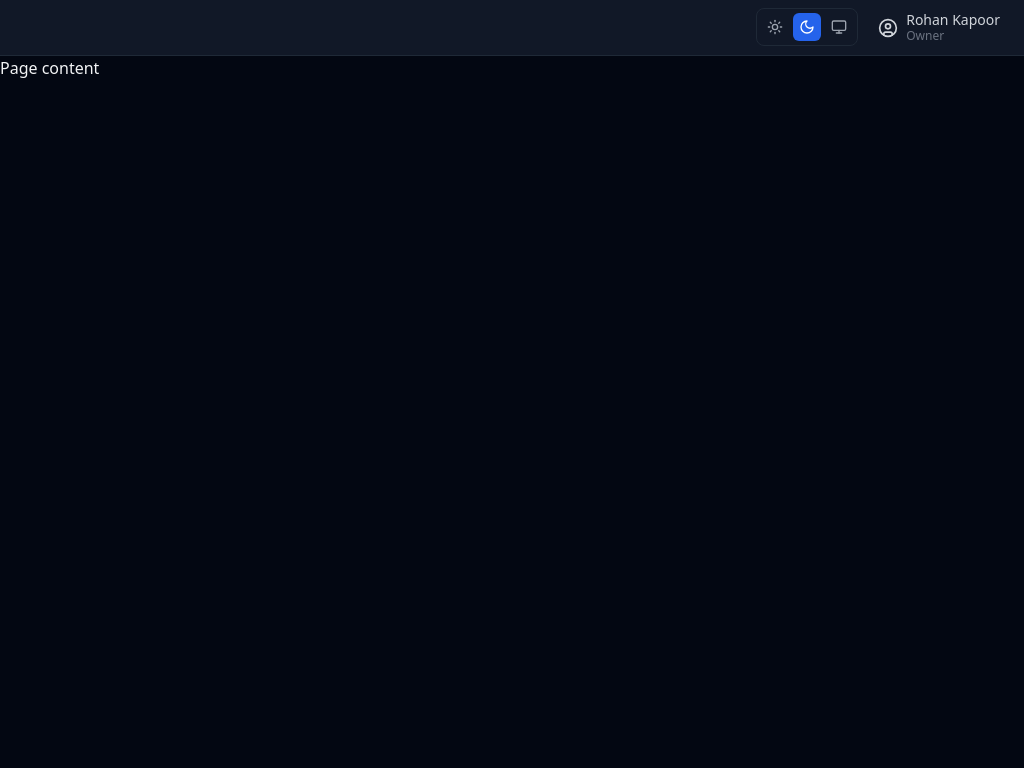
Header account menu › opens the change-password dialog from the account menu, and closes the menu
Step 1. Click the button with aria-label "Account menu" → click(939, 28), box [870, 5, 1008, 50]
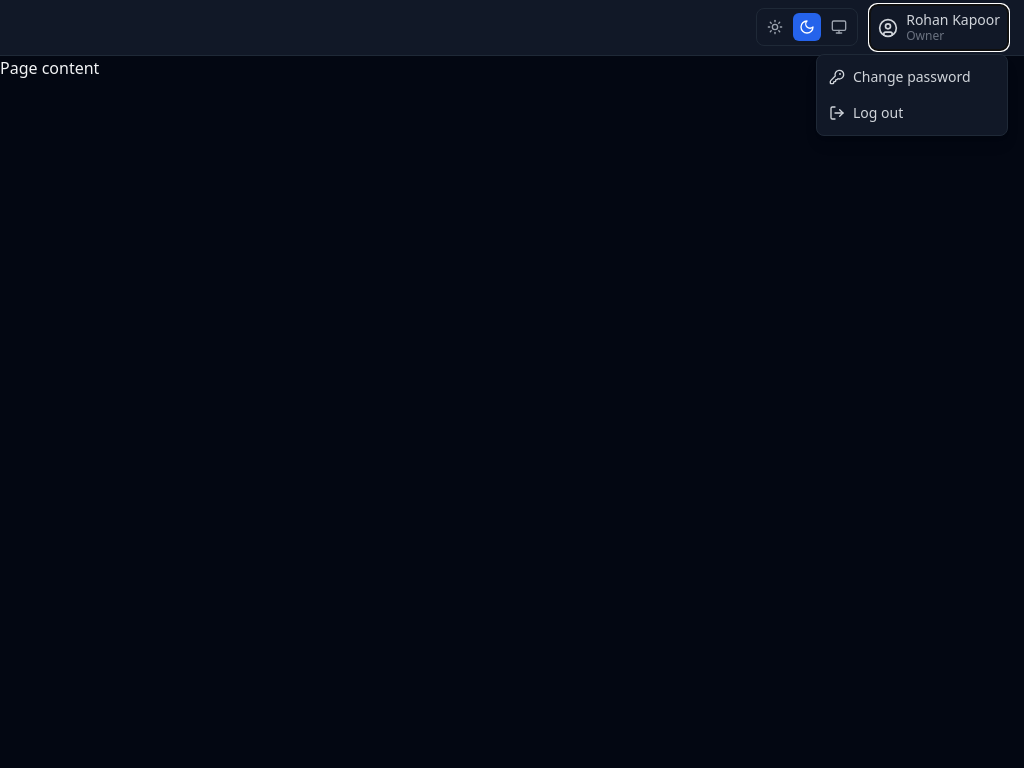
Step 2. Click the button "Change password" → click(912, 77), box [817, 59, 1007, 95]
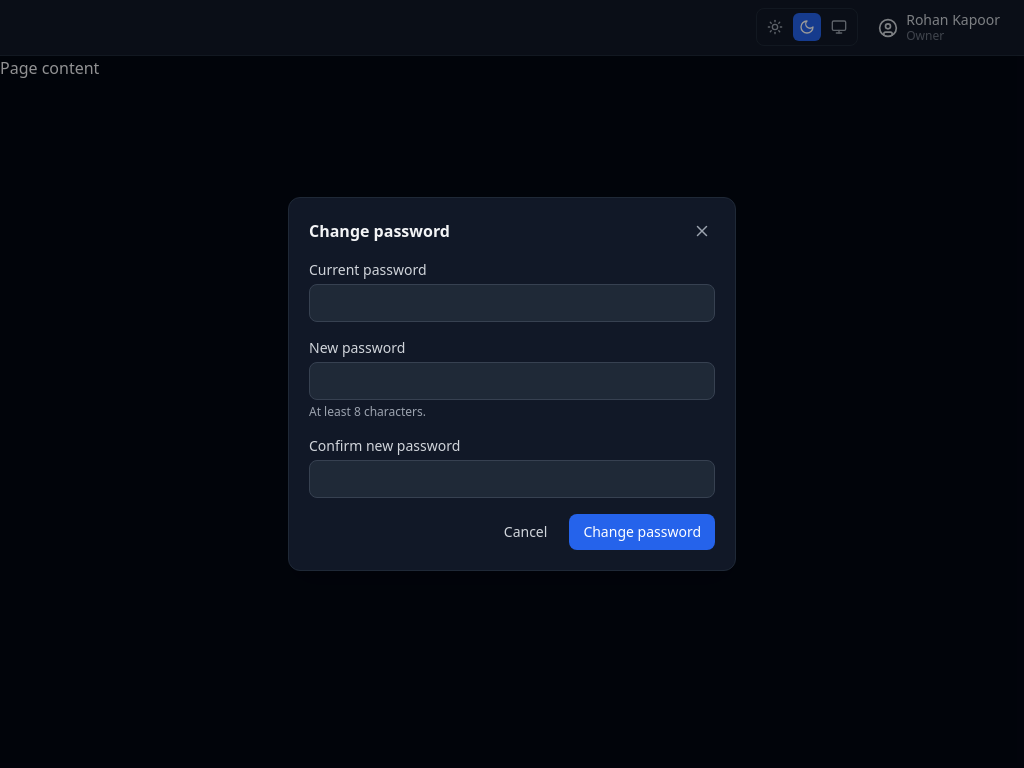
Now the dialog "Change password" is shown, box [288, 197, 736, 571]
Now the button "Log out" is gone
